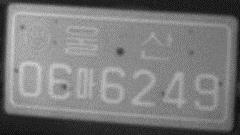0: (16, 60, 42, 98)
2: (130, 68, 159, 108)
4: (162, 70, 187, 109)
6: (100, 64, 126, 105), (47, 60, 72, 100)
9: (192, 71, 220, 112)
마: (75, 65, 97, 100)
영: (24, 21, 52, 54)
울산_D: (62, 24, 174, 62)
